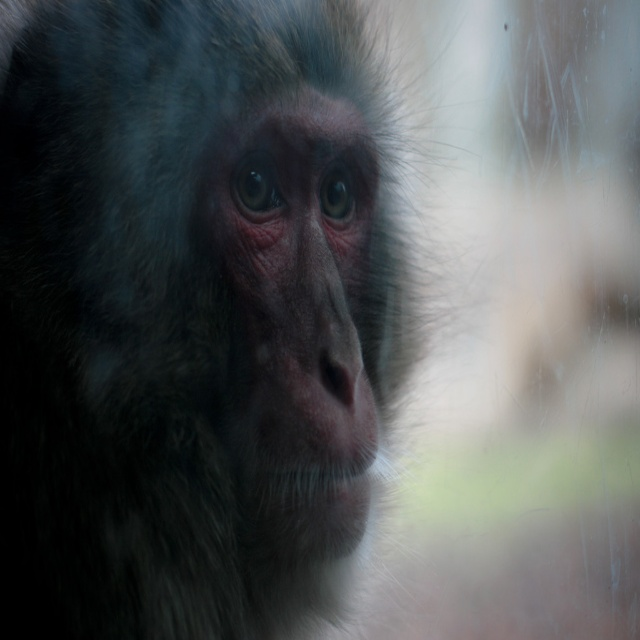Monkey: (0, 0, 470, 639)
